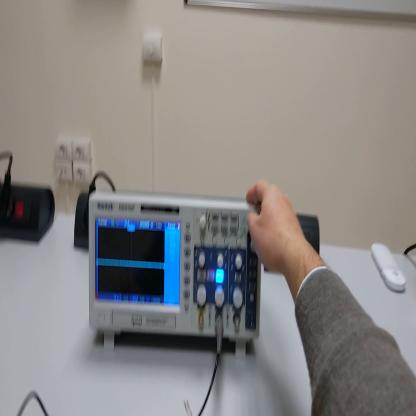hand: (246, 179, 303, 277)
oscilloscope: (88, 199, 260, 364)
socket: (2, 180, 58, 248), (74, 195, 88, 247)
